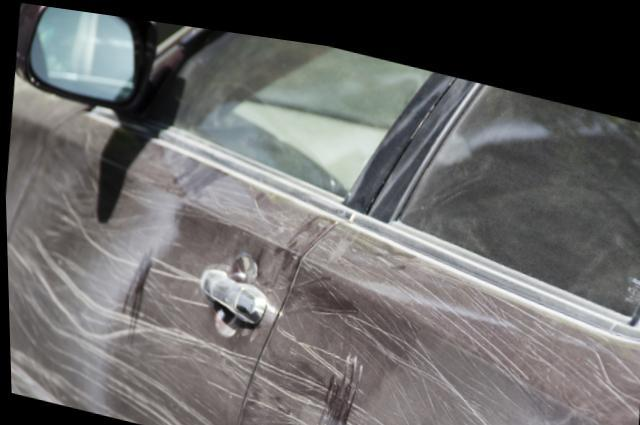scratch: (6, 111, 337, 425), (233, 211, 640, 425)
